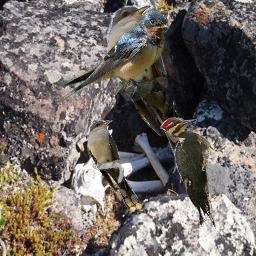Cuckoo: (107, 5, 206, 171), (87, 120, 142, 212)
Swallow: (57, 10, 170, 105)
Woodpecker: (160, 117, 216, 229)
